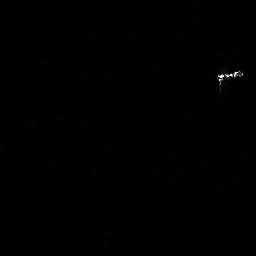ship: (214, 67, 245, 90)
